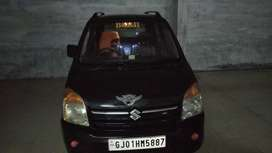GJ01HM5887: (108, 135, 167, 151)
